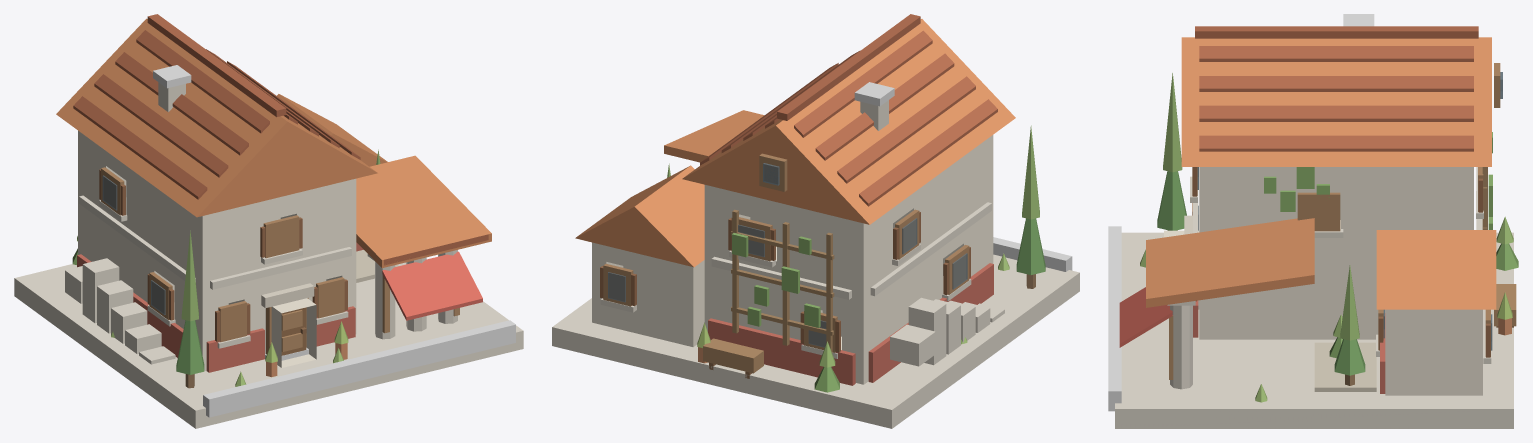
The model's file is domus.glb.
3 renders of one model, left to right at view 1: azimuth 30°, elevation 25°; view 2: azimuth 150°, elevation 25°; view 3: azimuth 270°, elevation 25°, orthographic. The views are drawn at different scales.
Parts seen in each view (by area): view 1: roof, house, stone, tile_dark, curb, frame, step, awning, socle, ridge, string, shutter (+10 smaller); view 2: roof, house, stone, tile_dark, back_room, socle, frame, trellis, step, glass, string, ridge (+10 smaller); view 3: roof, stone, house, tile_dark, back_room, ridge, curb, frame, cypress, court, cypress_tip, awning (+8 smaller).
Boxes of the visible parts, x1,y1,x2,y2 form: roof: [56, 18, 491, 268]; house: [78, 130, 356, 371]; stone: [14, 250, 523, 428]; tile_dark: [73, 30, 360, 199]; curb: [203, 320, 515, 417]; frame: [101, 167, 344, 354]; step: [82, 258, 175, 364]; awning: [382, 251, 482, 320]; socle: [77, 242, 363, 372]; ridge: [147, 14, 488, 265]; string: [79, 195, 351, 289]; shutter: [99, 169, 347, 341]; roof: [575, 19, 1015, 267]; house: [704, 135, 993, 384]; stone: [552, 254, 1079, 428]; tile_dark: [700, 30, 997, 206]; back_room: [592, 242, 704, 346]; socle: [708, 263, 993, 385]; frame: [603, 153, 969, 352]; trellis: [731, 209, 834, 352]; step: [908, 297, 1004, 365]; glass: [608, 163, 967, 347]; string: [711, 202, 991, 299]; ridge: [777, 14, 920, 120]; roof: [1146, 37, 1496, 309]; stone: [1115, 232, 1513, 428]; house: [1164, 167, 1473, 339]; tile_dark: [1199, 46, 1473, 151]; back_room: [1385, 309, 1482, 395]; ridge: [1195, 26, 1478, 38]; curb: [1108, 226, 1121, 411]; frame: [1192, 63, 1500, 356]; cypress: [1157, 171, 1365, 375]; court: [1314, 342, 1376, 391]; cypress_tip: [1163, 73, 1359, 340]; awning: [1119, 287, 1172, 347].
Bounding box in the file's own units: 0.94 × 0.721 × 0.9253.
